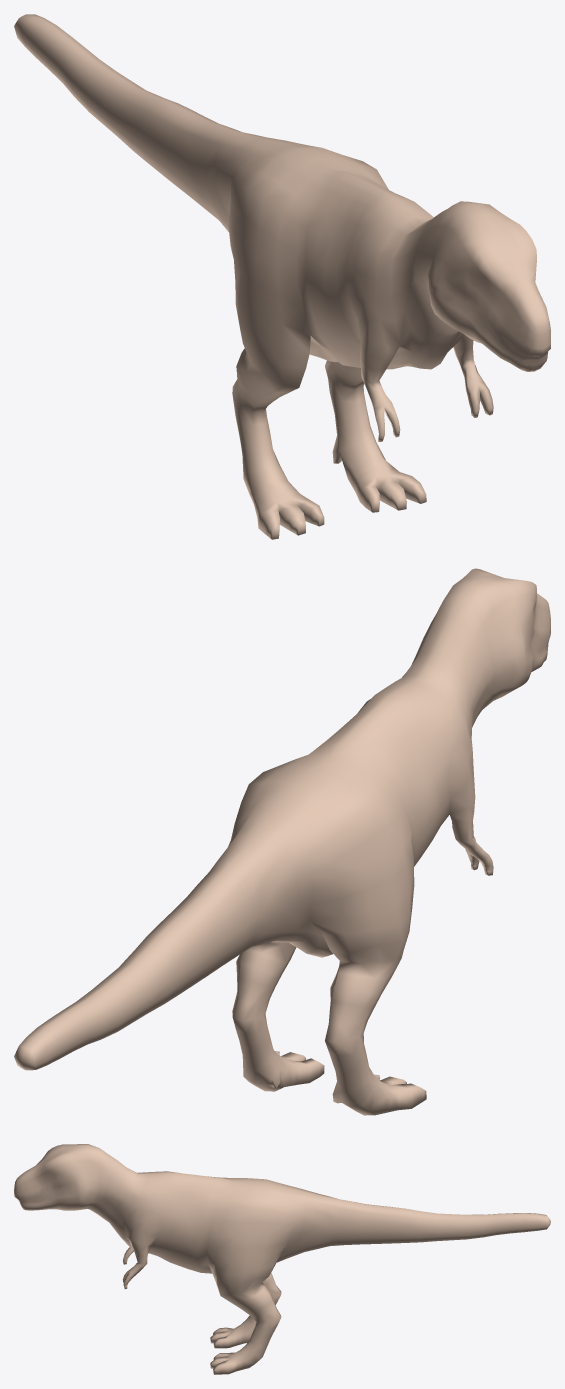
Rendered from tRex.fbx.
3 renders of one model, top to bottom at view 1: azimuth 30°, elevation 25°; view 2: azimuth 150°, elevation 25°; view 3: azimuth 270°, elevation 25°, orthographic. The views are drawn at different scales.
Parts seen in each view (by area): view 1: tRex; view 2: tRex; view 3: tRex.
Part boxes in pixels (bbox=[...]): tRex: bbox=[14, 14, 550, 539]; tRex: bbox=[14, 568, 550, 1115]; tRex: bbox=[14, 1144, 550, 1374].
Bounding box in the file's own units: 145 × 350 × 814.
